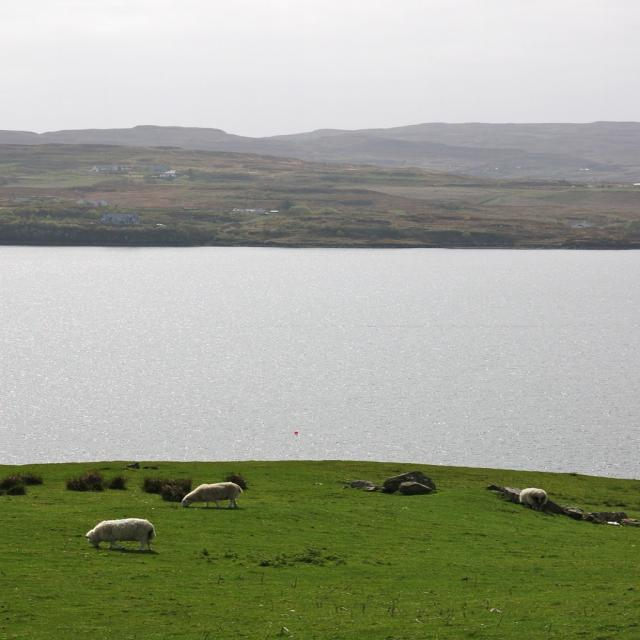Sheep: (86, 518, 154, 554), (184, 484, 244, 512), (518, 488, 547, 508)
